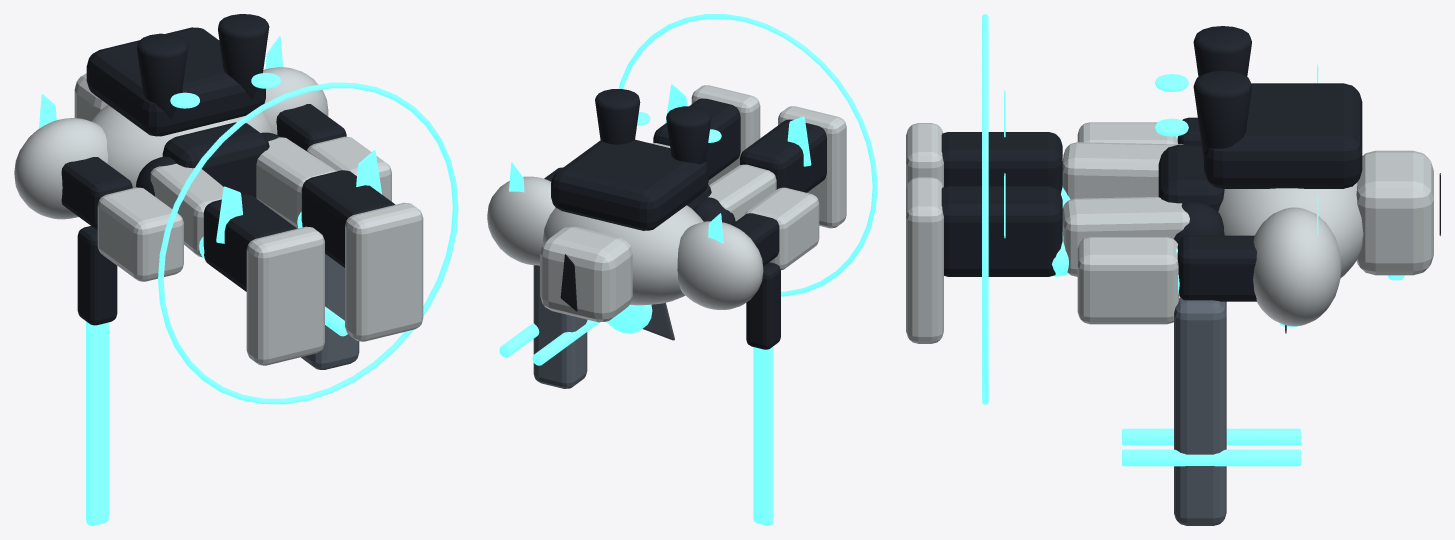
Rendered from pulse_player.glb.
3 views of the same model, side by side, from view 1: azimuth 30°, elevation 25°; view 2: azimuth 150°, elevation 25°; view 3: azimuth 270°, elevation 25° (orthographic). The views are drawn at different scales.
Visible parts, largest first — view 1: foot.001, foot, backpack, forearm, shield-ring, shoulder-shell, ink-energy-blade, waist, lower-leg.001, lower-leg, upper-leg.001, torso (+13 smaller); view 2: backpack, head, shoulder-shell, torso, shoulder-shell.001, lower-leg, ink-energy-blade, pulse-body, forearm, foot, shield-ring, lower-leg.001 (+13 smaller); view 3: backpack, pulse-body, lower-leg.001, head, forearm.001, shoulder-shell.001, foot.001, lower-leg, torso, upper-leg, upper-leg.001, upper-arm.001 (+9 smaller).
Boxes of the visible parts, box(x1,y1,x2,y2) form: foot.001: box(345, 202, 423, 341); foot: box(246, 226, 324, 365); backpack: box(86, 27, 265, 136); forearm: box(97, 187, 183, 281); shield-ring: box(158, 82, 458, 404); shoulder-shell: box(14, 118, 107, 219); ink-energy-blade: box(86, 321, 109, 525); waist: box(162, 122, 269, 198); lower-leg.001: box(301, 170, 395, 267); lower-leg: box(203, 194, 296, 291); upper-leg.001: box(256, 137, 336, 228); torso: box(91, 105, 272, 187); backpack: box(551, 139, 708, 230); head: box(540, 226, 632, 322); shoulder-shell: box(677, 221, 763, 309); torso: box(542, 205, 703, 305); shoulder-shell.001: box(487, 176, 555, 265); lower-leg: box(740, 119, 826, 192); ink-energy-blade: box(753, 346, 773, 525); pulse-body: box(533, 265, 587, 388); forearm: box(744, 187, 819, 270); foot: box(778, 106, 846, 228); shield-ring: box(618, 14, 877, 296); lower-leg.001: box(653, 98, 740, 179); backpack: box(1204, 83, 1362, 188); pulse-body: box(1174, 297, 1226, 525); lower-leg.001: box(941, 186, 1062, 276); head: box(1356, 150, 1433, 275); forearm.001: box(1077, 237, 1179, 324); shoulder-shell.001: box(1253, 207, 1341, 326); foot.001: box(906, 177, 943, 343); lower-leg: box(941, 132, 1062, 193); torso: box(1218, 182, 1363, 278); upper-leg: box(1062, 142, 1183, 199); upper-leg.001: box(1062, 197, 1189, 276); upper-arm.001: box(1177, 235, 1256, 301).
Size of the model in its own units: 2.12 by 3.17 by 2.84.
